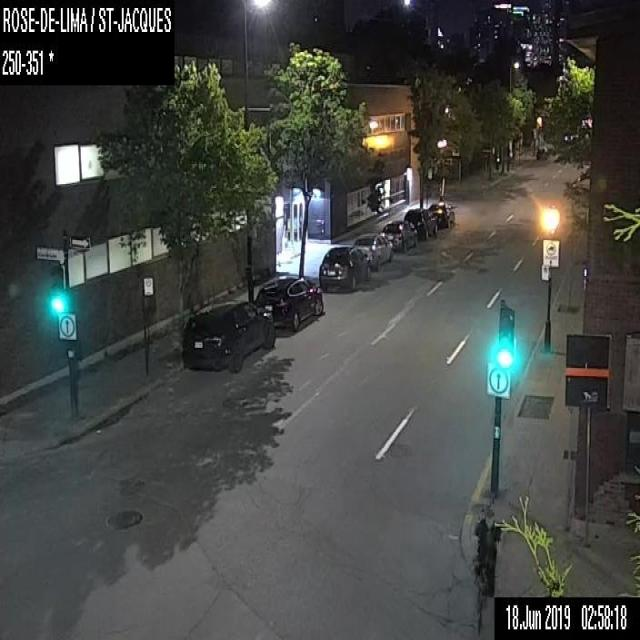cyclist: (474, 500, 499, 627)
vehicle: (180, 297, 275, 372), (253, 276, 323, 330), (318, 245, 372, 289), (351, 232, 393, 268), (381, 220, 418, 251), (404, 210, 437, 239), (426, 201, 456, 229), (534, 143, 546, 160)
